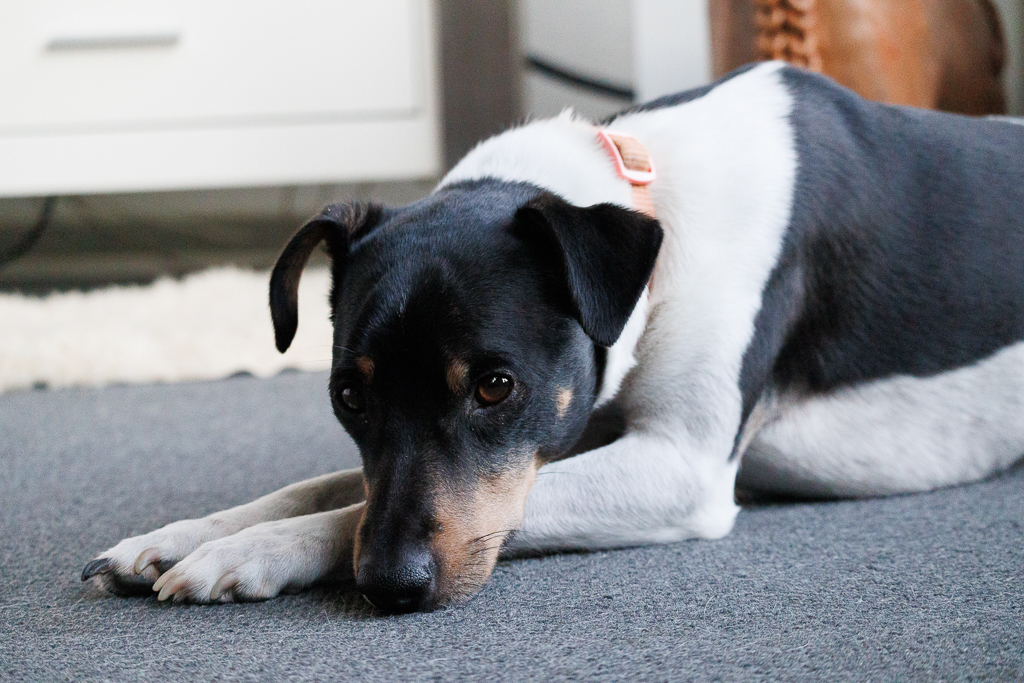Cattle: (702, 0, 1012, 122)
Dog: (63, 50, 1023, 617)
